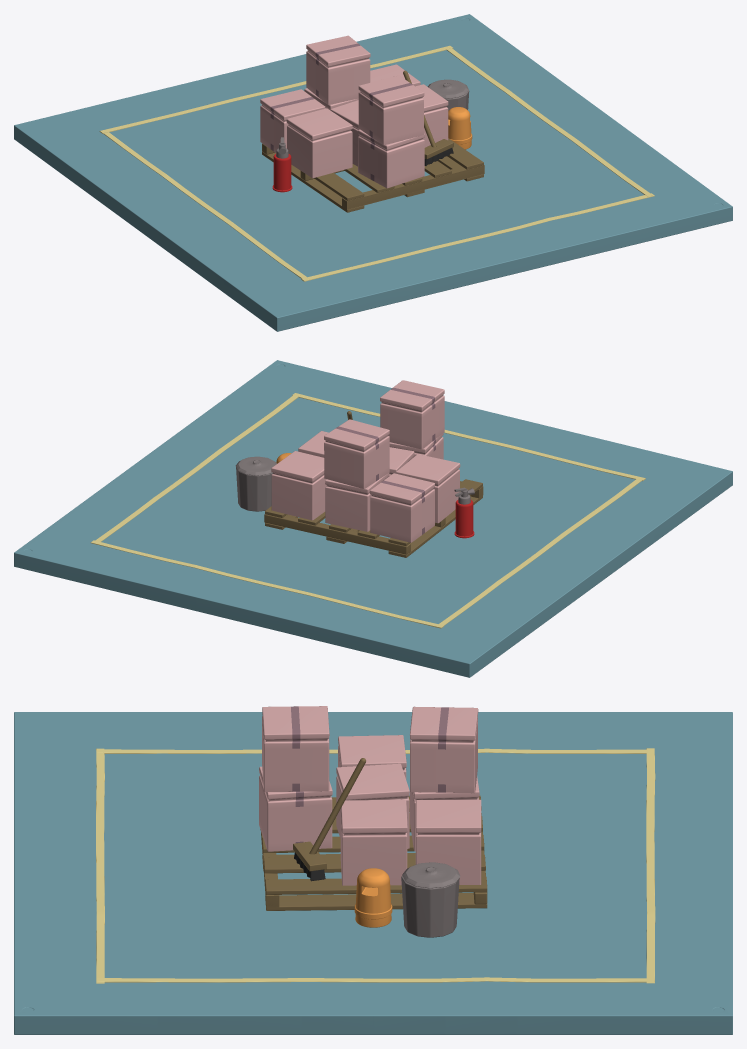
3 views of the same model, one above another, from view 1: azimuth 30°, elevation 25°; view 2: azimuth 150°, elevation 25°; view 3: azimuth 270°, elevation 25° (orthographic). The views are drawn at different scales.
Parts seen in each view (by area): view 1: Mesh4_Plastic_Blue_0, Box_018, Box_014, Box_017, Box_019, Box_020, pCube91, pCube93, pCube92, Box_016, Decal_Floor_Caution_Line, pCube63 (+7 smaller); view 2: Mesh4_Plastic_Blue_0, Box_017, Box_020, Box_018, Box_012, Box_014, Box_013, pCube61, Decal_Floor_Caution_Line, Trash_Bin, pCube93, pCube92 (+5 smaller); view 3: Mesh4_Plastic_Blue_0, Box_018, Box_017, Box_016, Box_012, Box_019, Trash_Bin, pCube93, Box_015, Decal_Floor_Caution_Line, pCube91, Box_014 (+9 smaller).
Boxes of the visible parts, x1,y1,x2,y2 form: Mesh4_Plastic_Blue_0: (14,14,732,331); Box_018: (358,75,424,145); Box_014: (286,108,352,178); Box_017: (306,35,370,104); Box_019: (358,129,424,188); Box_020: (260,89,325,152); pCube91: (301,193,654,281); pCube93: (447,48,652,196); pCube92: (103,132,309,279); Box_016: (415,84,448,147); Decal_Floor_Caution_Line: (99,45,453,133); pCube63: (342,166,483,208); Mesh4_Plastic_Blue_0: (14,360,732,677); Box_017: (324,419,389,488); Box_020: (370,473,434,542); Box_018: (380,380,444,449); Box_012: (271,451,326,520); Box_014: (396,454,460,523); Box_013: (325,473,389,531); pCube61: (264,514,410,554); Decal_Floor_Caution_Line: (90,540,443,628); Trash_Bin: (236,467,272,511); pCube93: (95,393,300,541); pCube92: (439,477,643,625); Mesh4_Plastic_Blue_0: (14,712,732,1034); Box_018: (262,706,329,791); Box_017: (410,706,478,793); Box_016: (340,799,407,885); Box_012: (415,799,481,884); Box_019: (259,766,332,851); Trash_Bin: (401,875,459,937); pCube93: (97,977,646,982); Box_015: (336,763,409,848); Decal_Floor_Caution_Line: (646,748,655,983); pCube91: (96,748,104,983); Box_014: (338,735,406,779).
Bounding box in the file's own units: 38.98 × 9.36 × 38.98.
